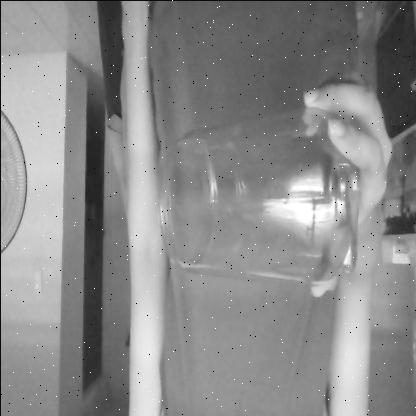Plastic Bottle: (158, 109, 360, 290)
